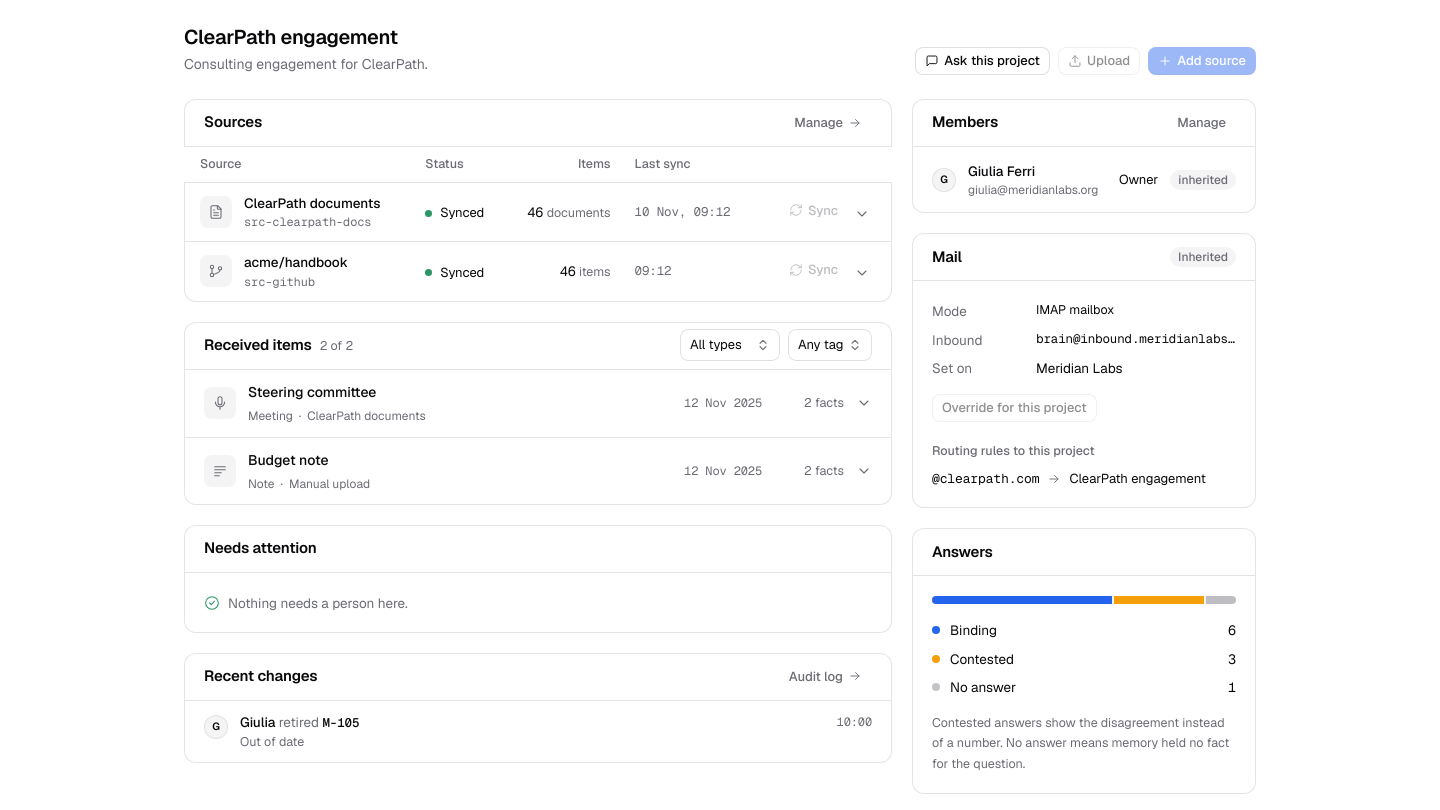
Project › upload and add source › a viewer sees both buttons greyed out and a click only explains why
The width and height of the screenshot is (1440, 810).
Check: the heading "ClearPath engagement" is shown, box left=184, top=24, right=428, bottom=50
Check: the text "src-clearpath-docs" is shown, box left=244, top=213, right=380, bottom=231
Click the button "Upload" at (1099, 61), box left=1058, top=47, right=1140, bottom=75
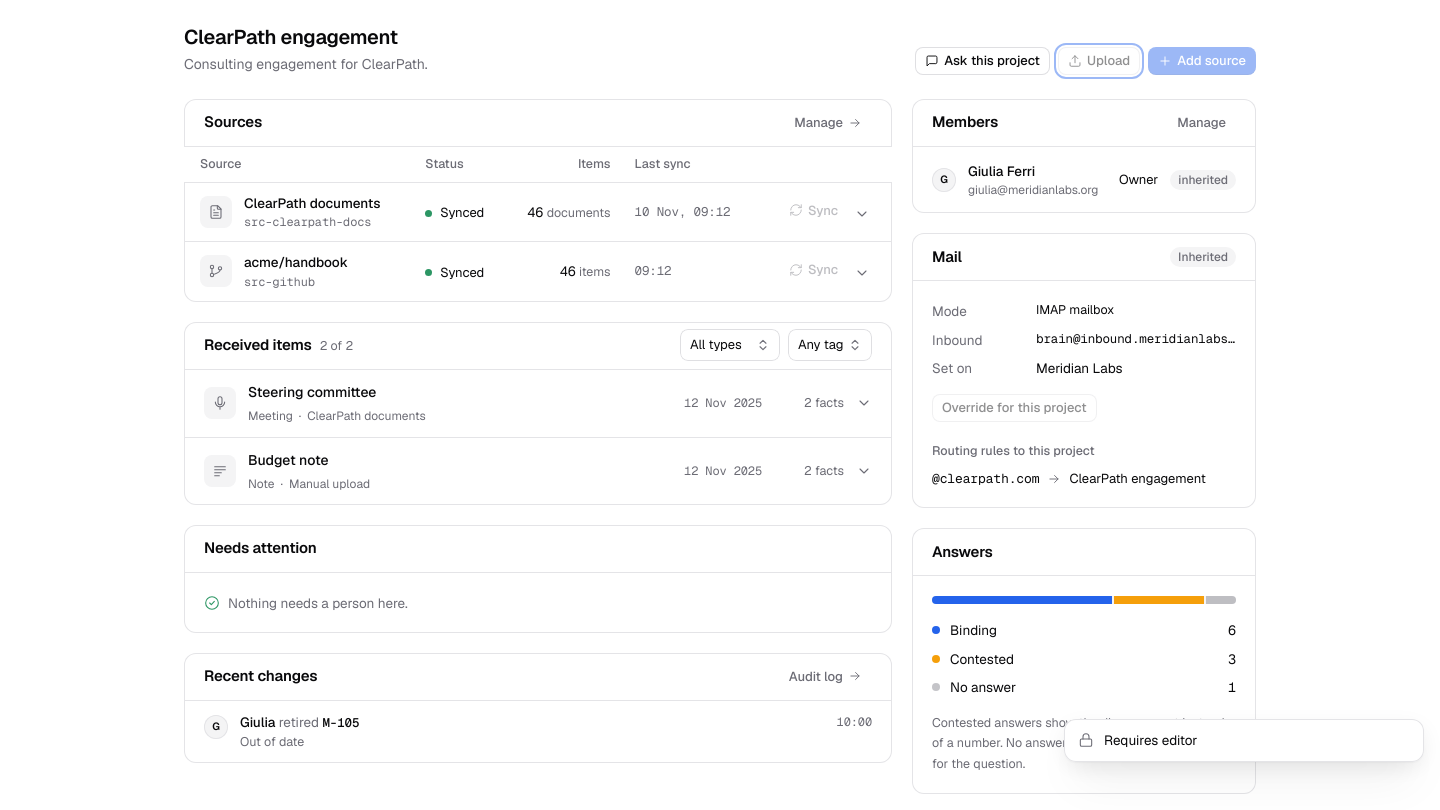
Check: the text "Requires editor" is shown, box left=1104, top=731, right=1198, bottom=749
Click the button "Add source" at (1202, 61), box left=1148, top=47, right=1256, bottom=75
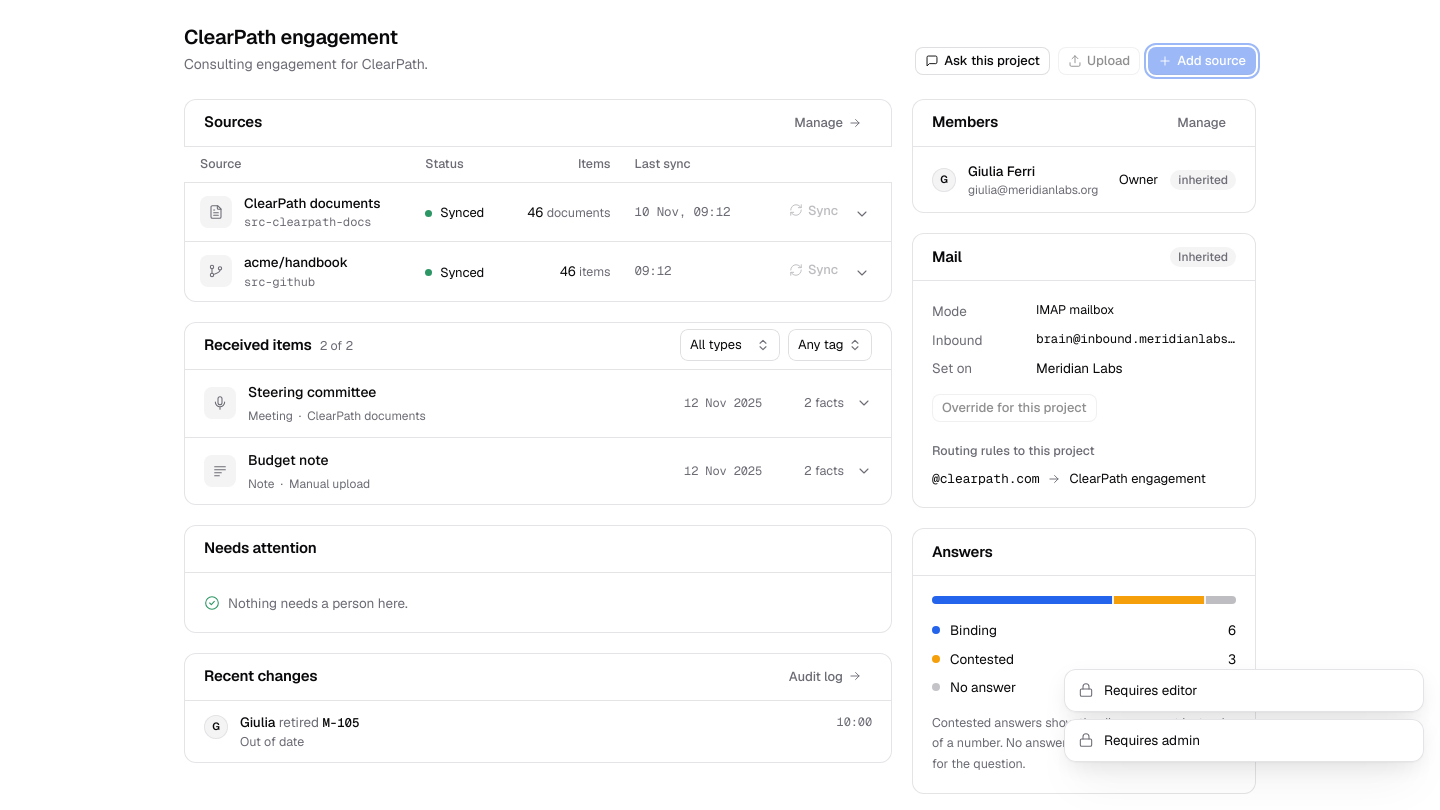
Check: the text "Requires admin" is shown, box left=1104, top=731, right=1200, bottom=749
